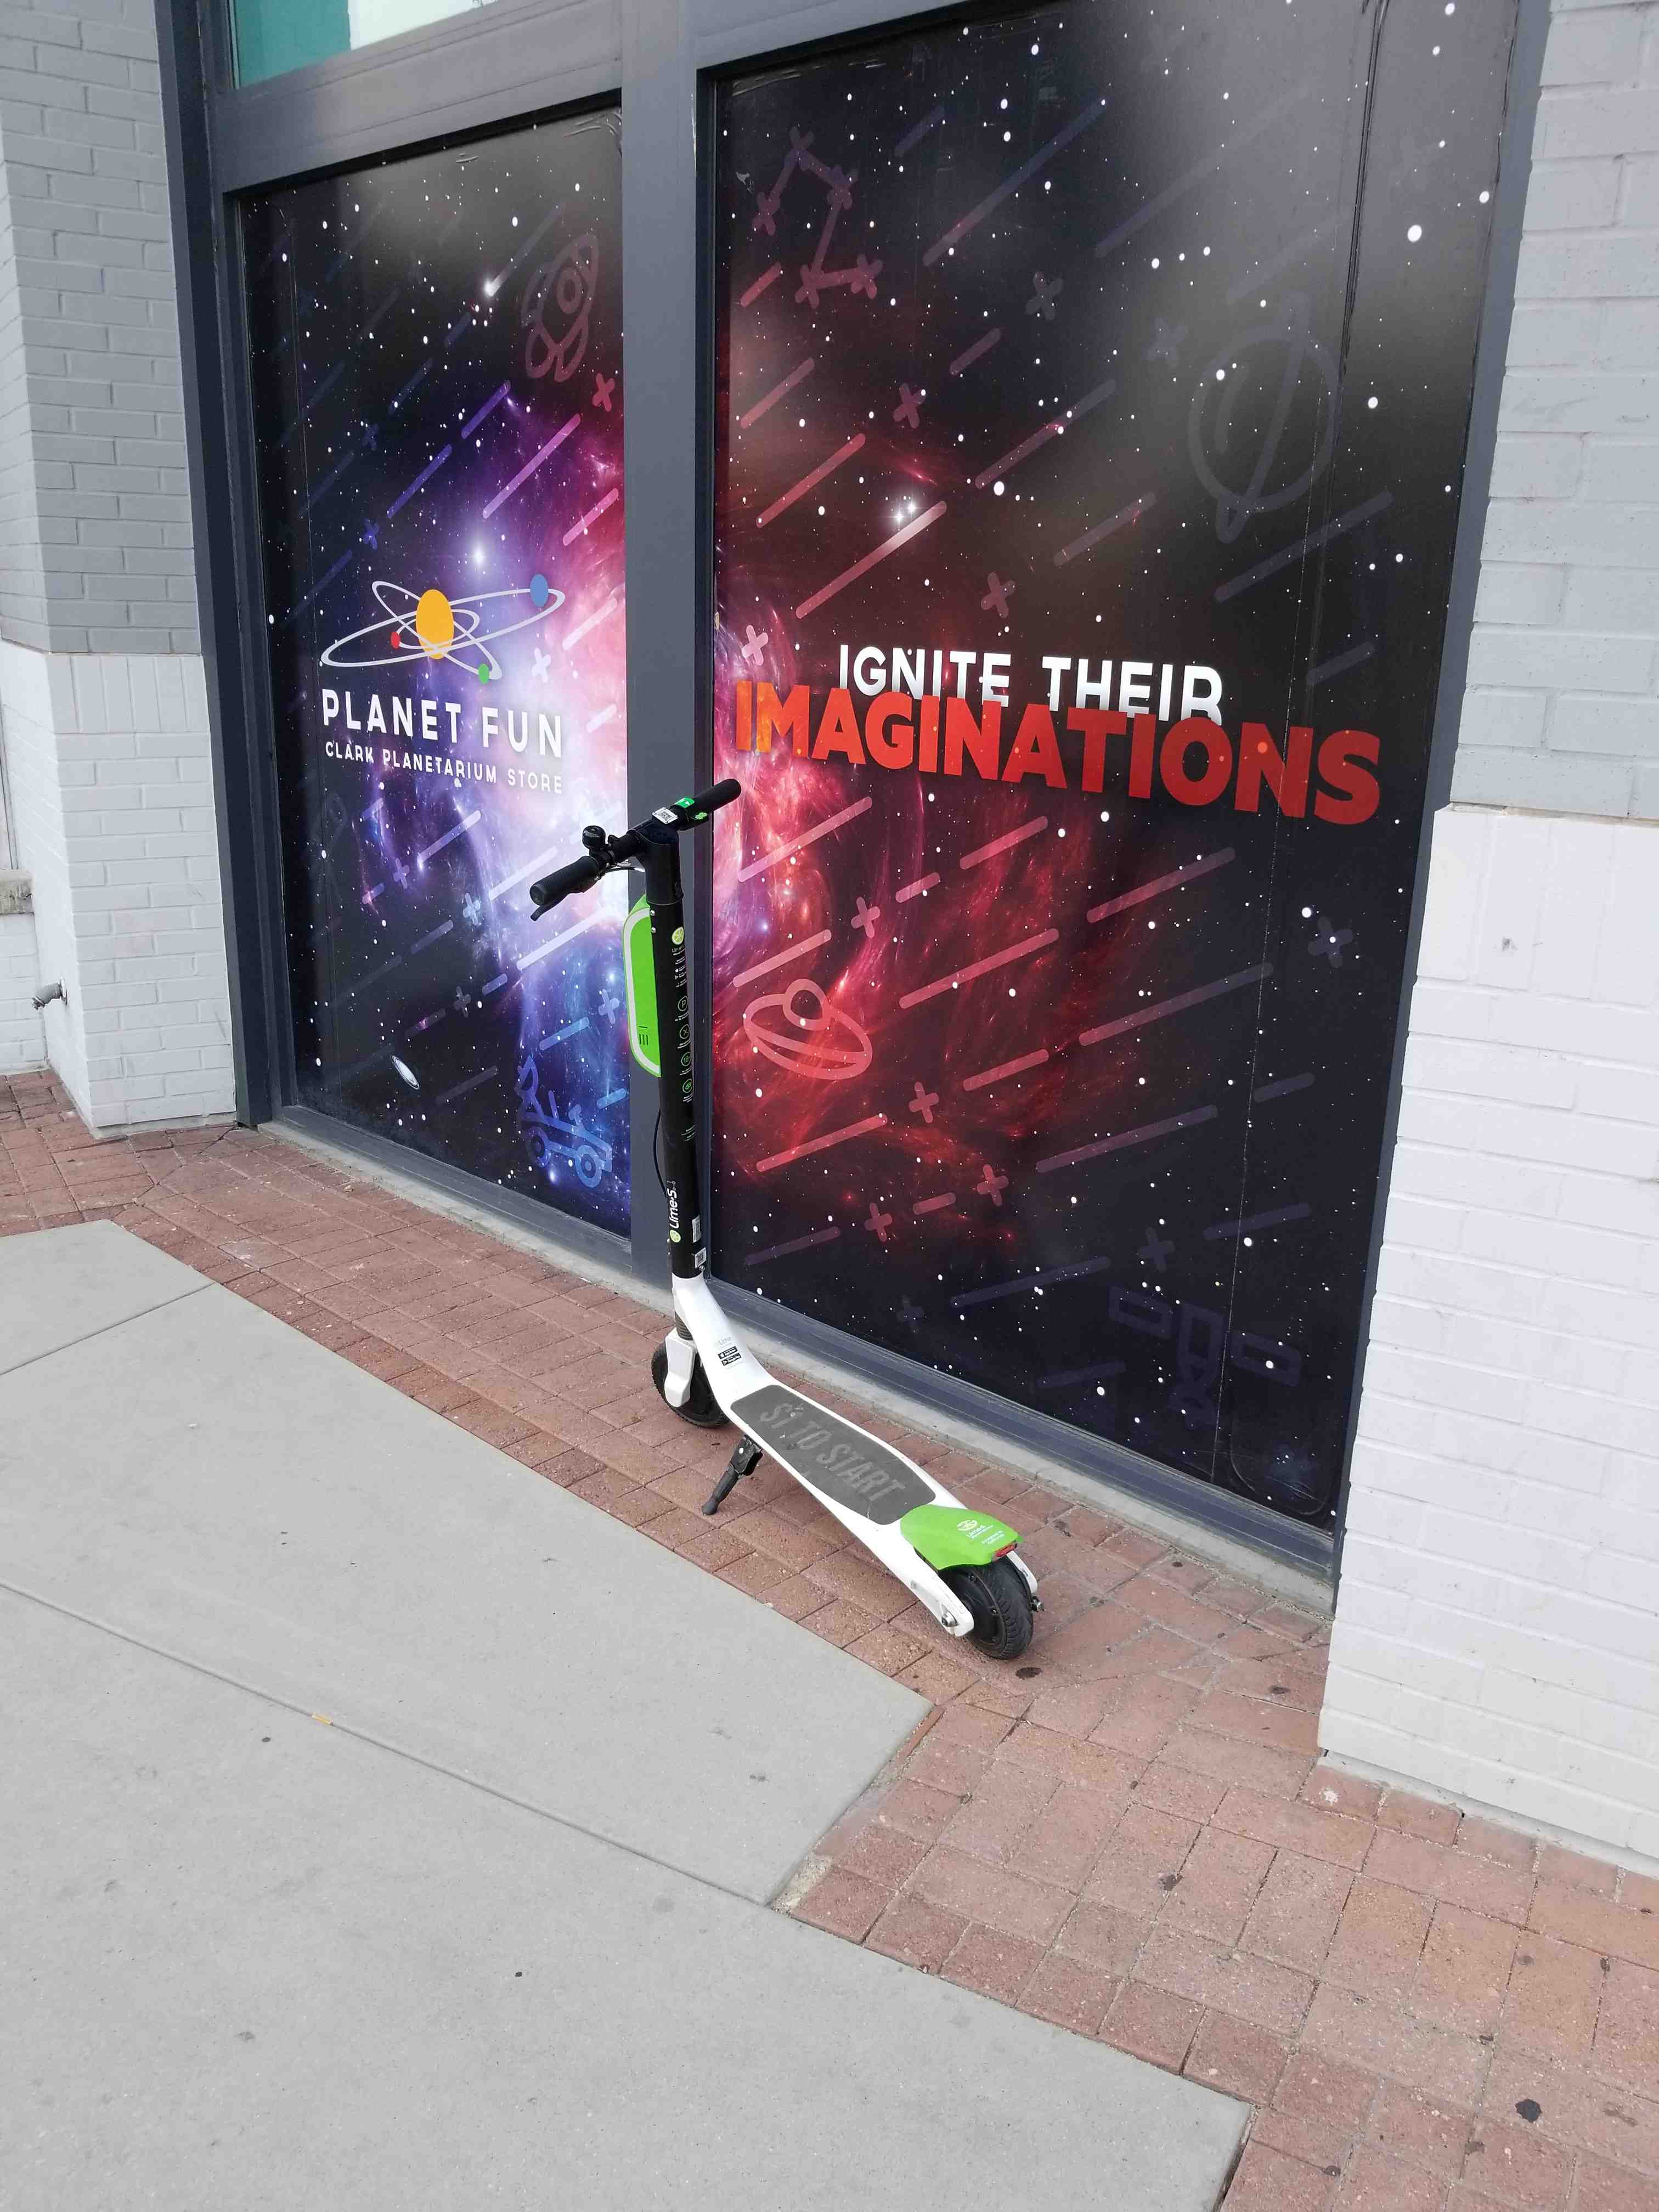scooter: (451, 763, 1053, 1696)
